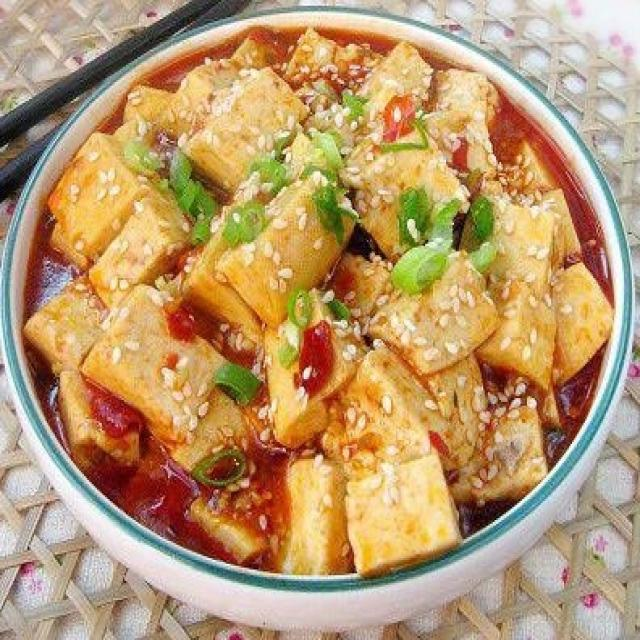豆腐料理: (3, 10, 624, 608)
